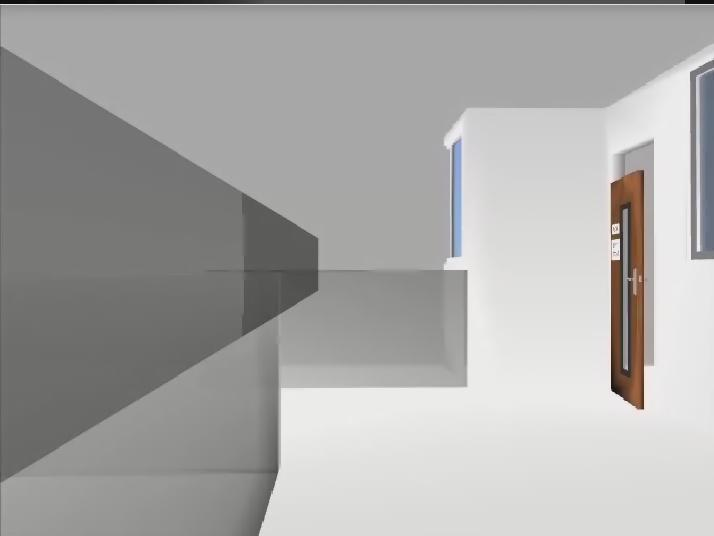door: (611, 170, 644, 411)
